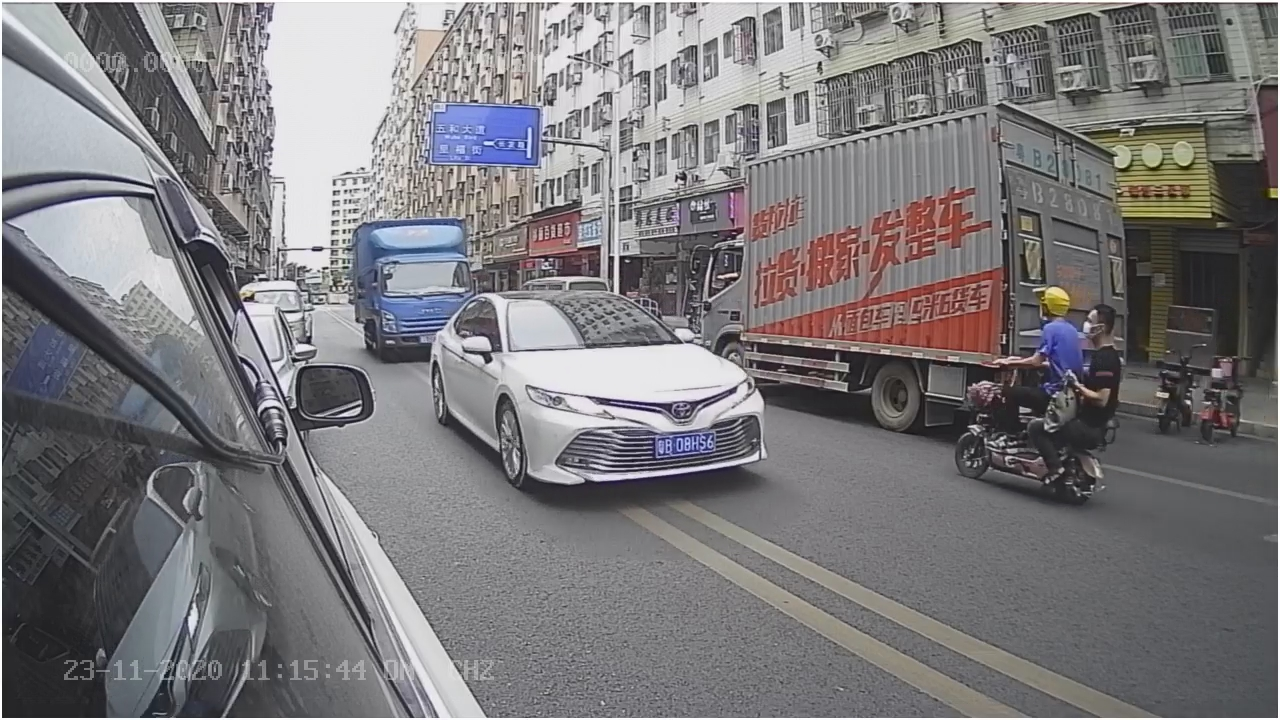person: (1023, 281, 1083, 384)
